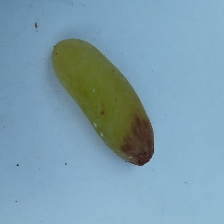grapes: (25, 41, 185, 177)
